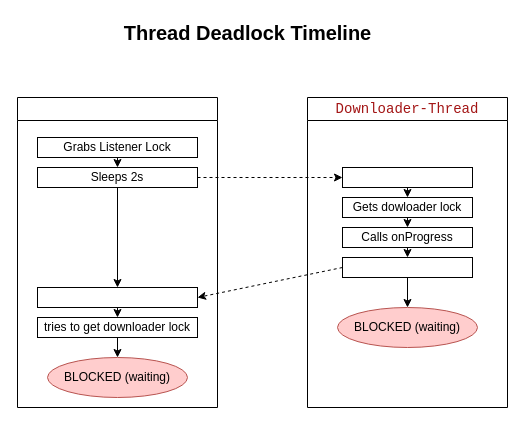
The diagram is 525 pixels wide and 425 high, and some of its shapes have lost their labels. The shapes that lost their labels are listed below. From the top down, each one's box as (x1, y1, x2, y2) in pixels, then its label:
(342, 166, 472, 188): Calls updateProgress
(16, 96, 218, 408): Listener-Thread
(342, 256, 472, 278): tries to get listener lock
(36, 286, 198, 308): calls addListener
